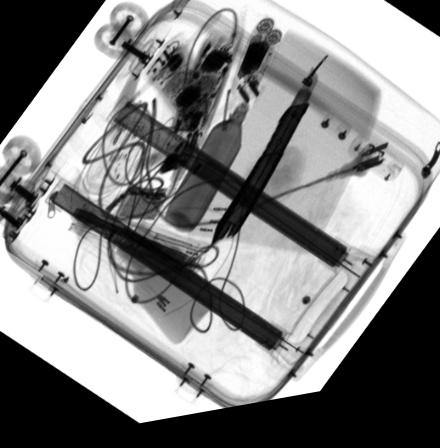Knife: (210, 80, 318, 254)
